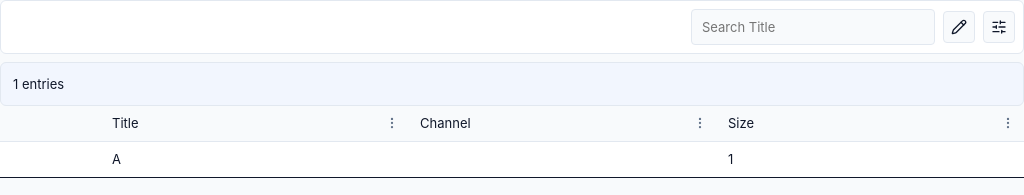
Test: IdnodeGrid › alwaysEdit + reorderableRows › Discard STAYS enabled in regular cell-edit mode (not alwaysEdit) even with no dirty — it doubles as "exit edit mode"
The image size is (1024, 195).
Click the button with class "idnode-grid__edit-toggle".
click(959, 27)  # box left=943, top=11, right=975, bottom=43
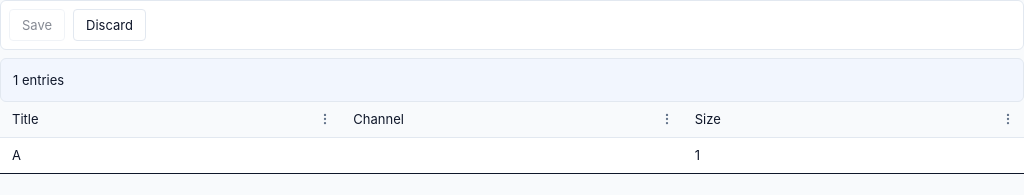
Check: the button "Discard" is enabled, box left=73, top=9, right=146, bottom=41
